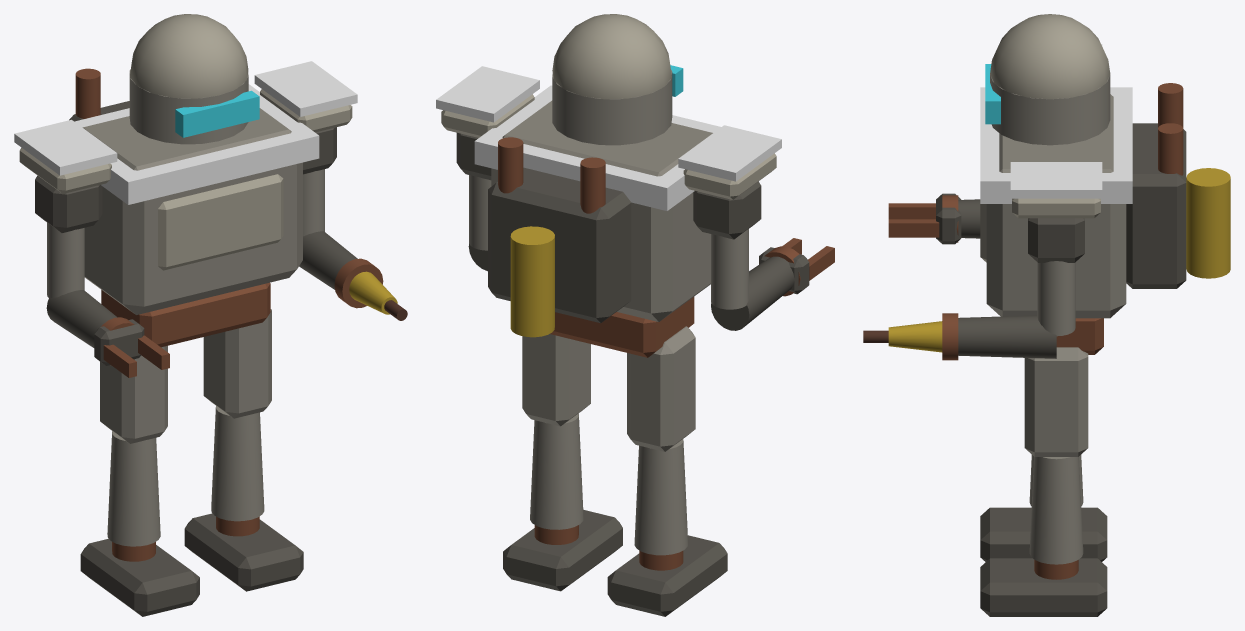
The picture shows the model from 3 angles, left to right: view 1: azimuth 30°, elevation 25°; view 2: azimuth 150°, elevation 25°; view 3: azimuth 270°, elevation 25°; orthographic projection.
Visible parts, largest first — view 1: dweller_robot_builder; view 2: dweller_robot_builder; view 3: dweller_robot_builder.
Boxes of the visible parts, x1,y1,x2,y2 form: dweller_robot_builder: (14,14,407,616); dweller_robot_builder: (436,14,834,616); dweller_robot_builder: (863,14,1230,616).
Size of the model in its own units: 1.09 by 1.95 by 1.16.
